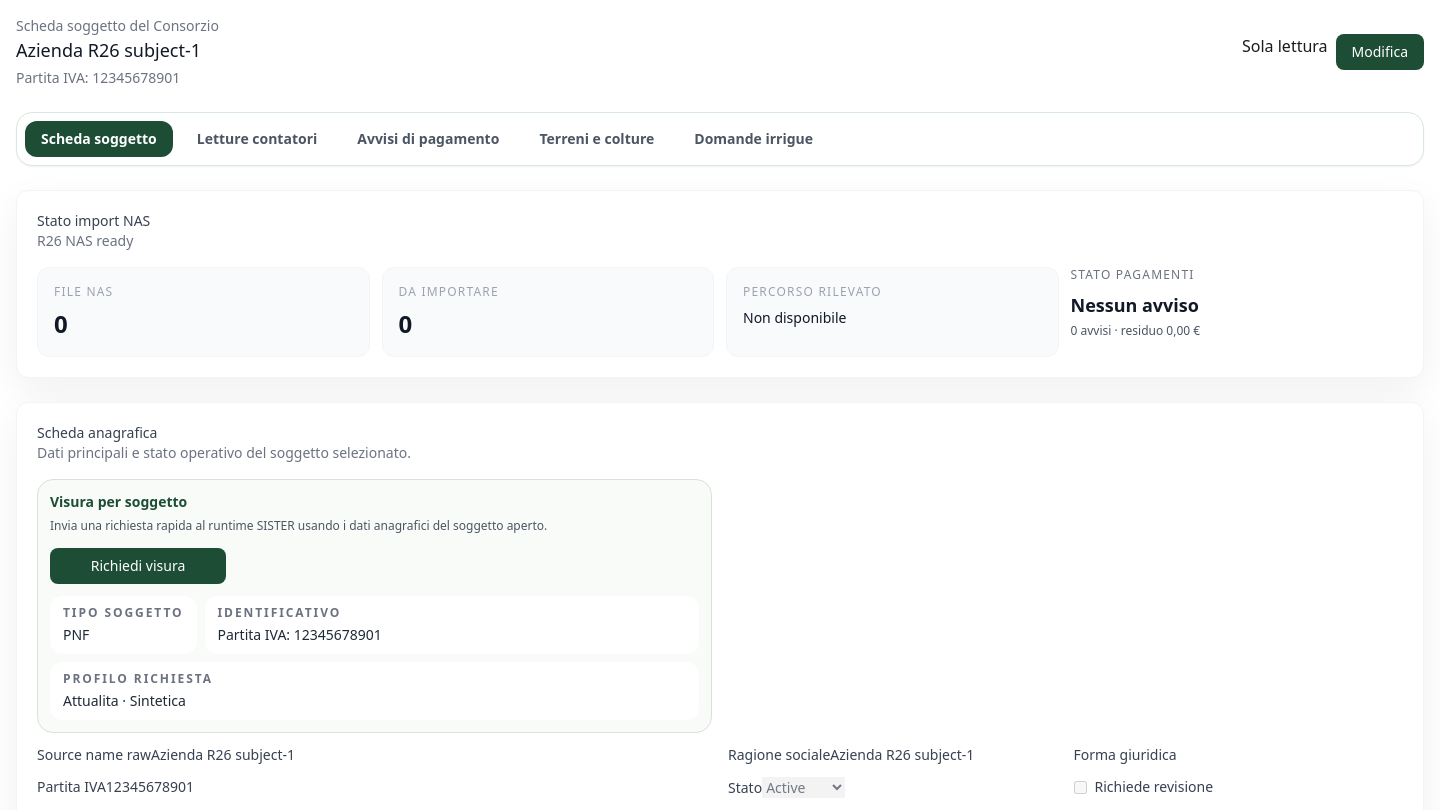
Test: R26 public manual-upload access and modal › read-only hides both entry points until real edit confirmation
Expected: the text "R26 NAS ready" is shown, x1=37 y1=231 x2=133 y2=250
Expected: the button "Nessun dato rilevato nel NAS, importa manualmente" is not shown
Click the button "Modifica" at (1380, 52), box x1=1336 y1=34 x2=1424 y2=70
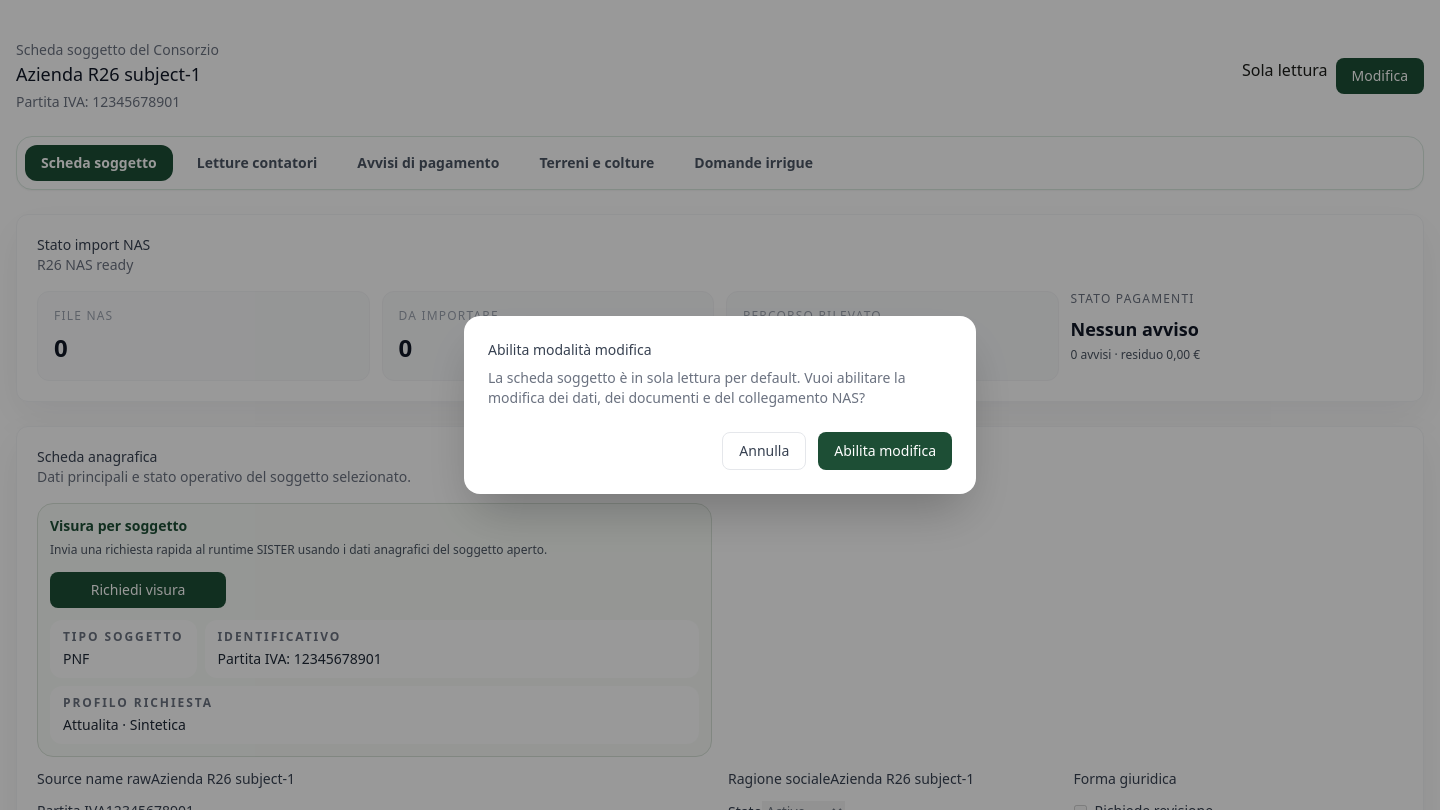
Click the button "Abilita modifica" at (885, 451), box x1=818 y1=432 x2=952 y2=470
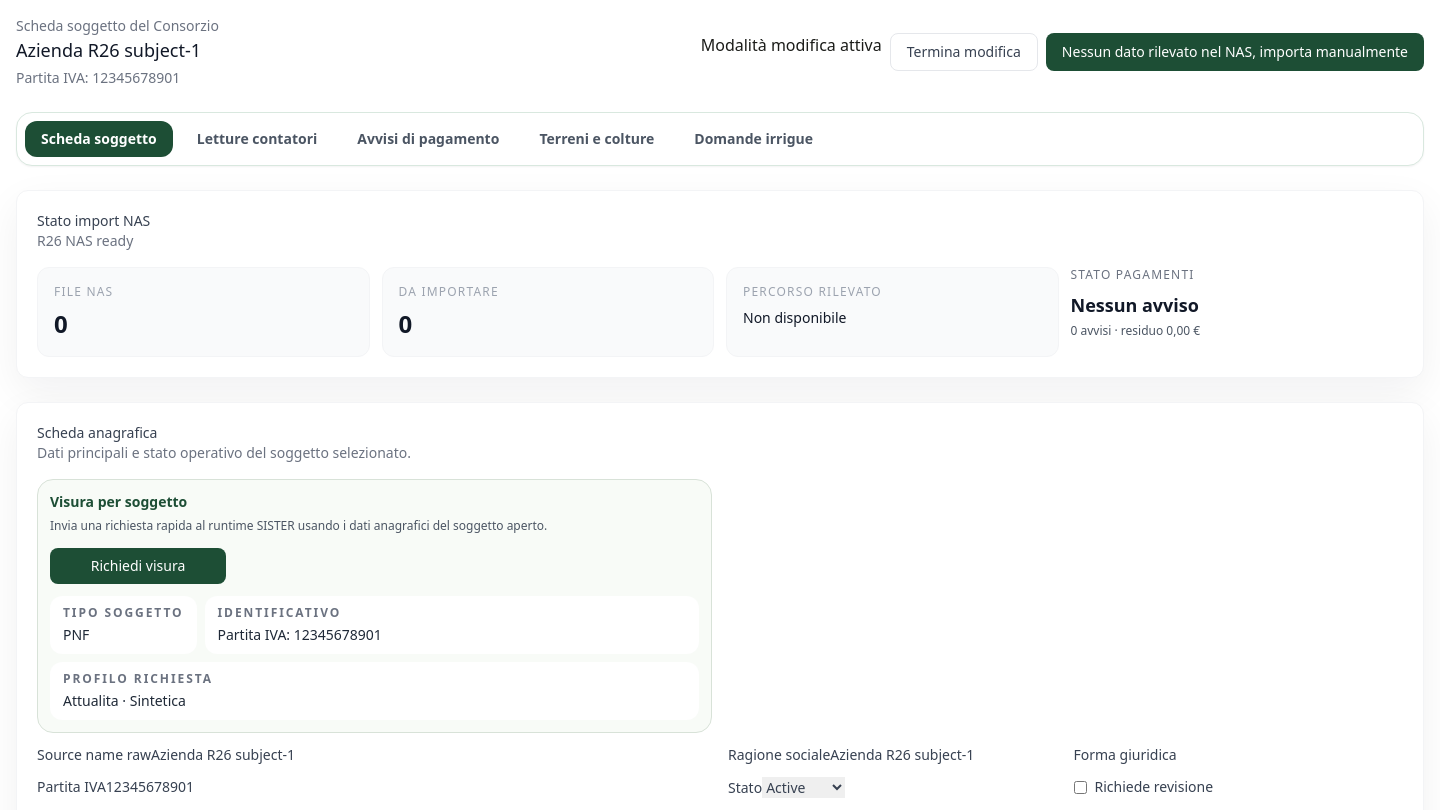
Expected: the button "Nessun dato rilevato nel NAS, importa manualmente" is enabled, x1=1046 y1=33 x2=1424 y2=71
Expected: the text "Modalità modifica attiva" is shown, x1=701 y1=34 x2=882 y2=56
